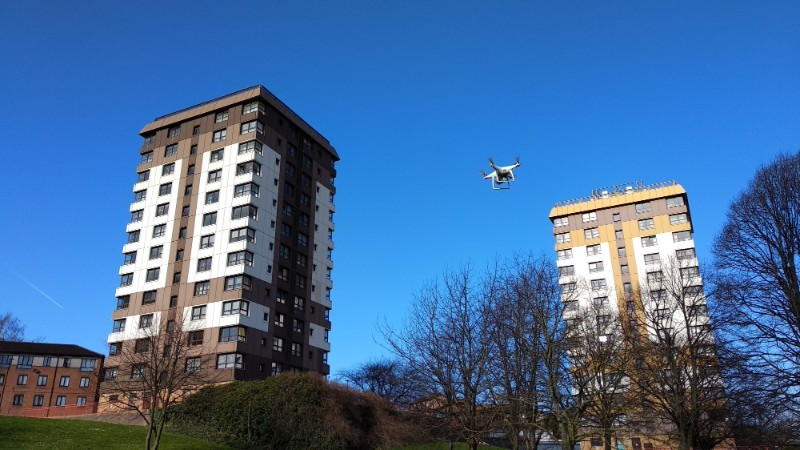drone: (479, 156, 524, 191)
